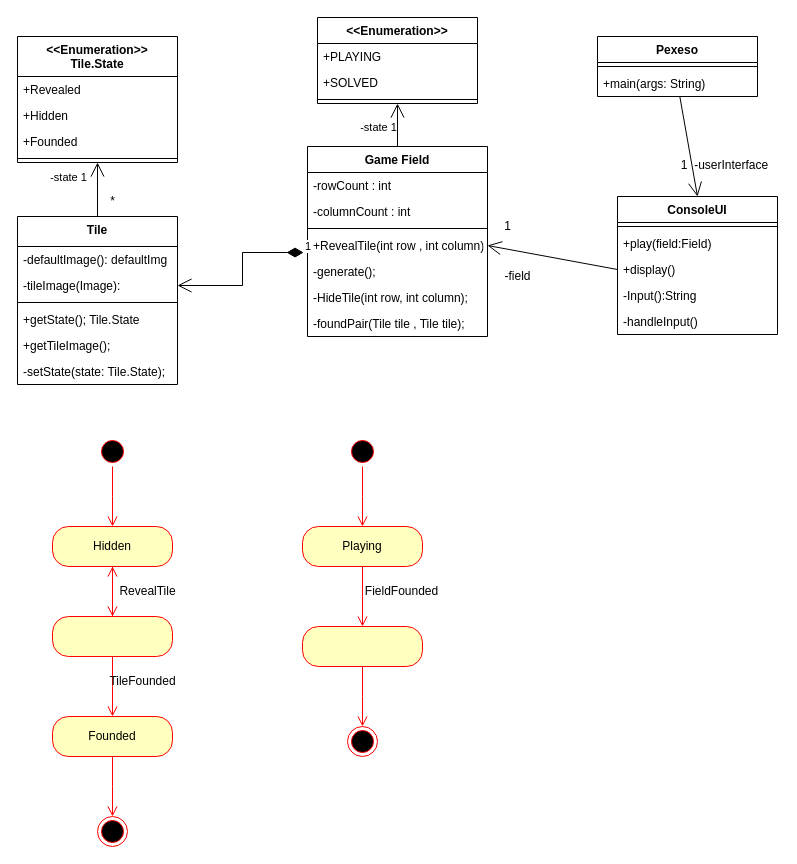
Image size: 797x864. Some labels were removed from this diagram. The centre of each missing label's shape, as x and y in pixels:
Revealed: (112,636)
Solved: (362,646)
